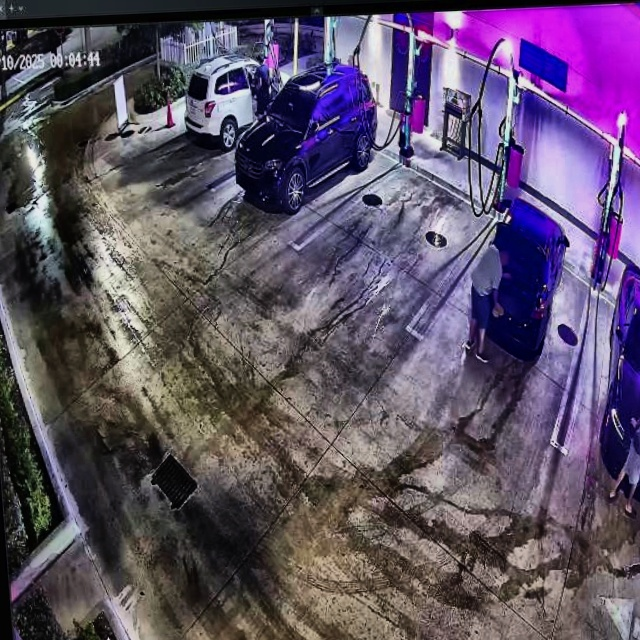Car: (230, 58, 379, 212), (475, 195, 571, 359), (182, 58, 295, 146)
